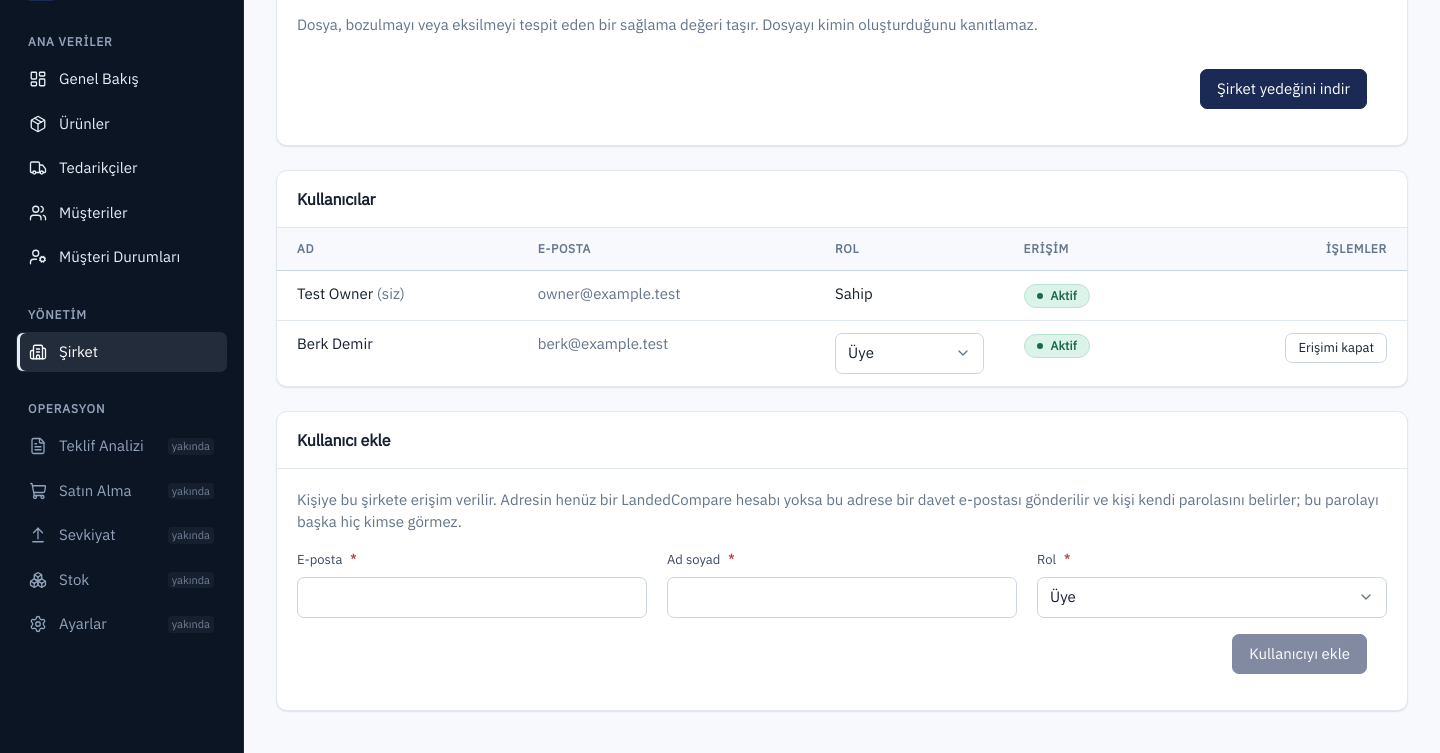
Test case: the company screen for an OWNER › a refusal the screen did not expect is shown, with a way to reload authority from the server
(page scrolled)
expect the navigation bar named "Ana menü" is shown: met, box [16,25,227,733]
Click the button "Erişimi kapat": (1336, 348) [1285,333,1387,363]
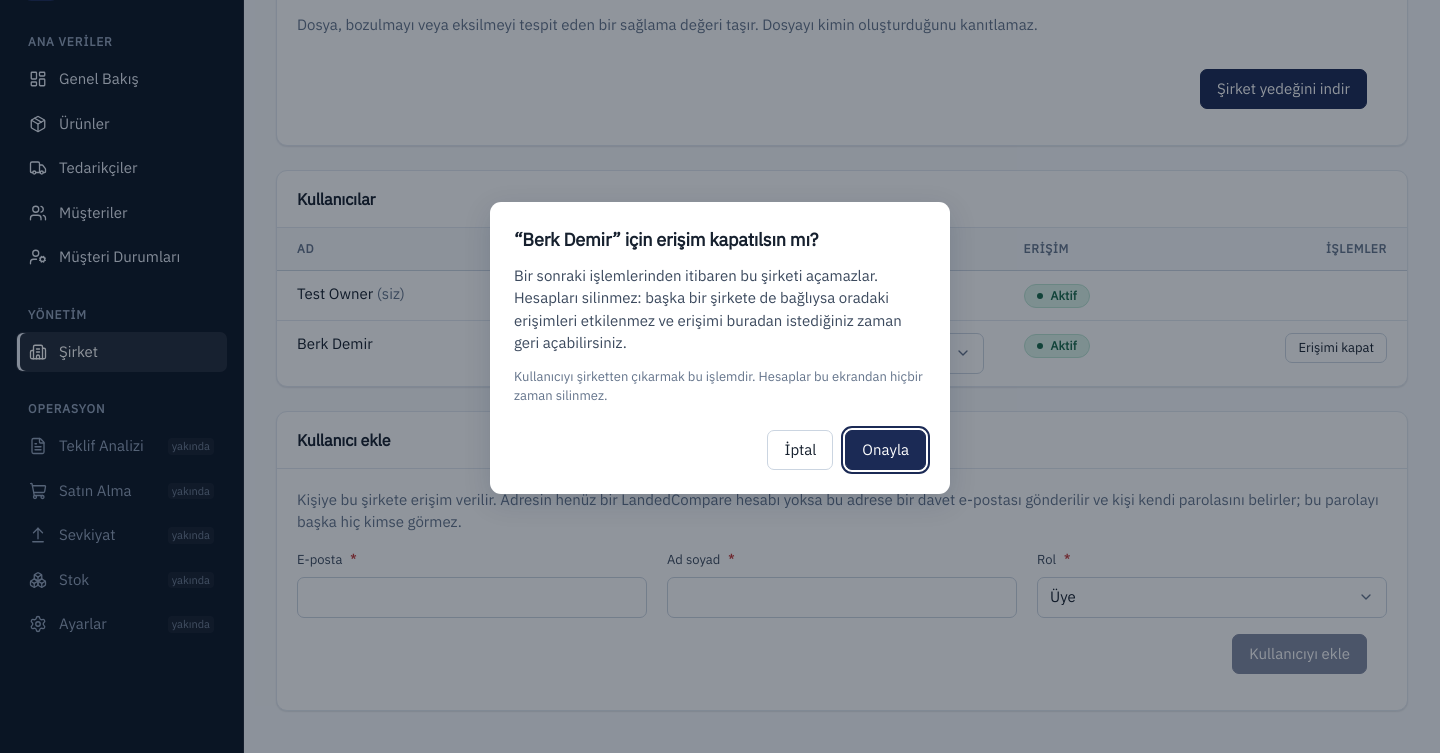
Click the button "Onayla": (886, 450) [845,430,926,470]
(page scrolled)
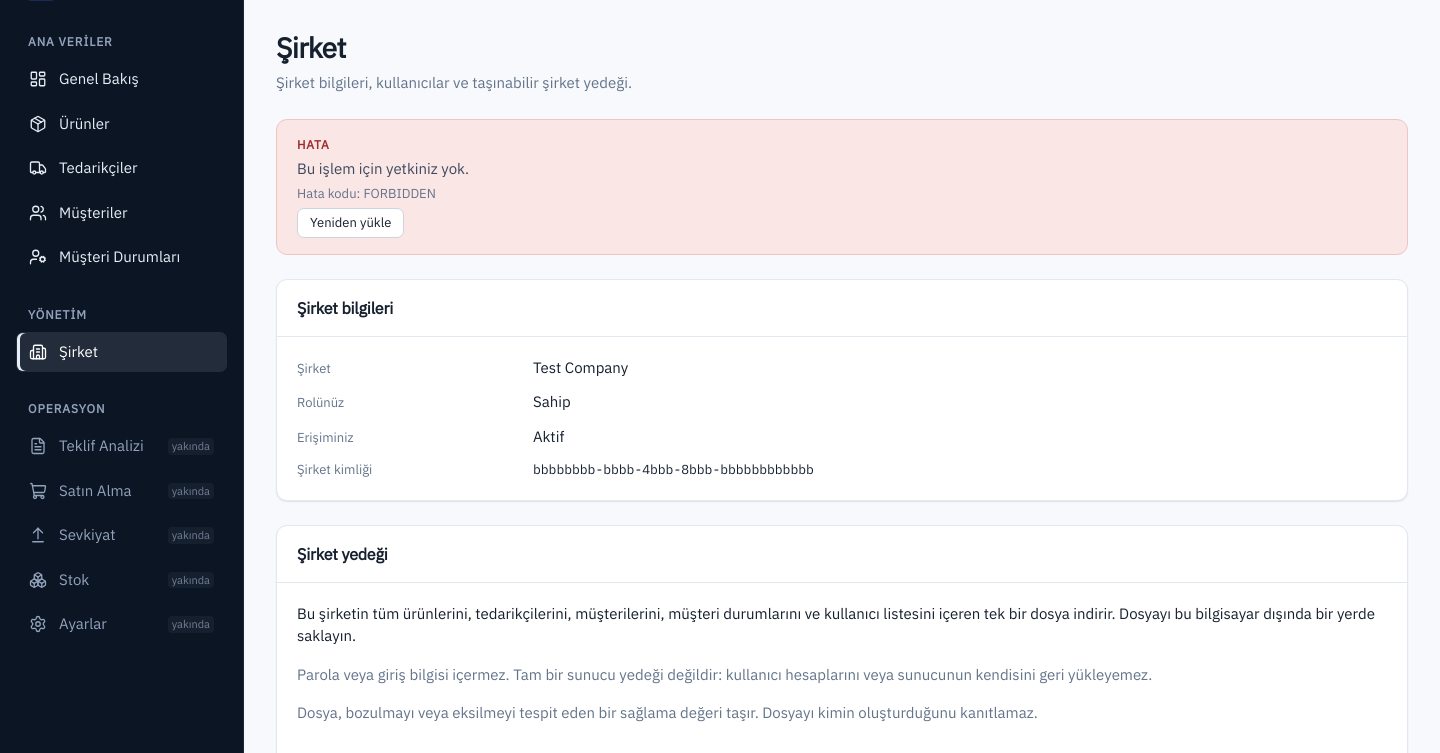
expect the text "Bu işlem için yetkiniz yok." is shown: met, box [297,158,469,180]
expect the button "Yeniden yükle" is shown: met, box [297,208,404,238]
